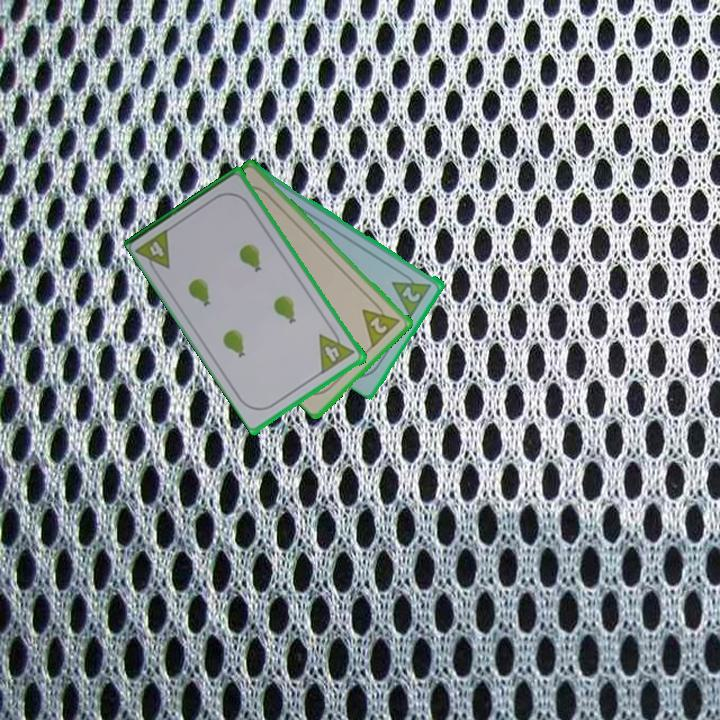2p: (358, 296, 404, 350), (399, 282, 424, 305)
4p: (315, 333, 346, 374), (146, 237, 168, 260)
